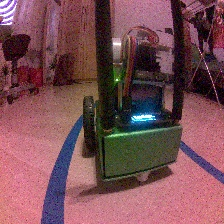rob: (81, 42, 183, 183)
